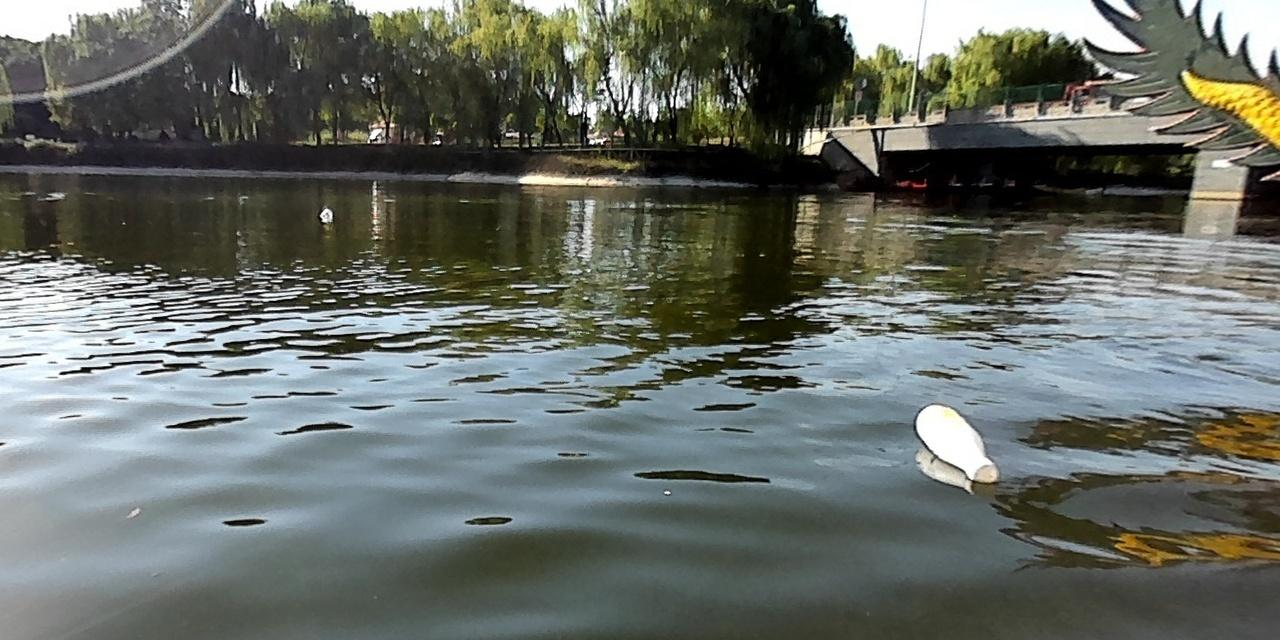bottle: (912, 401, 995, 479), (318, 206, 331, 220)
